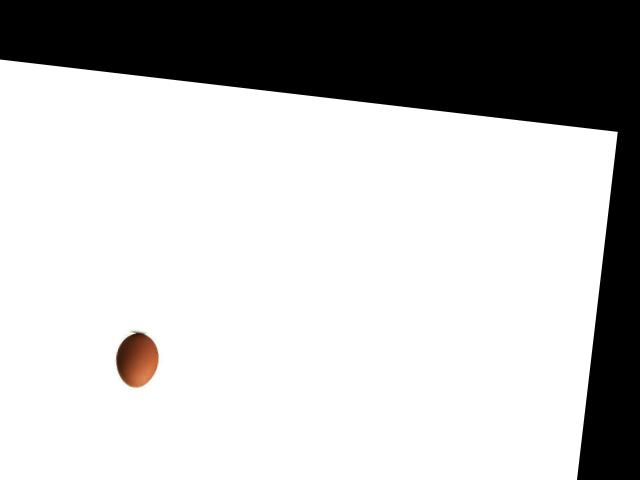egg: (113, 330, 160, 388)
